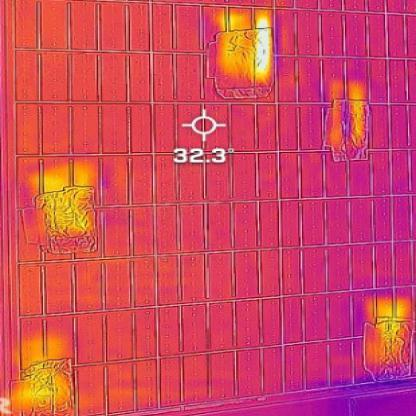anomaly: (29, 170, 112, 263), (205, 12, 286, 105), (1, 329, 80, 416), (361, 292, 416, 383), (322, 80, 378, 162)
